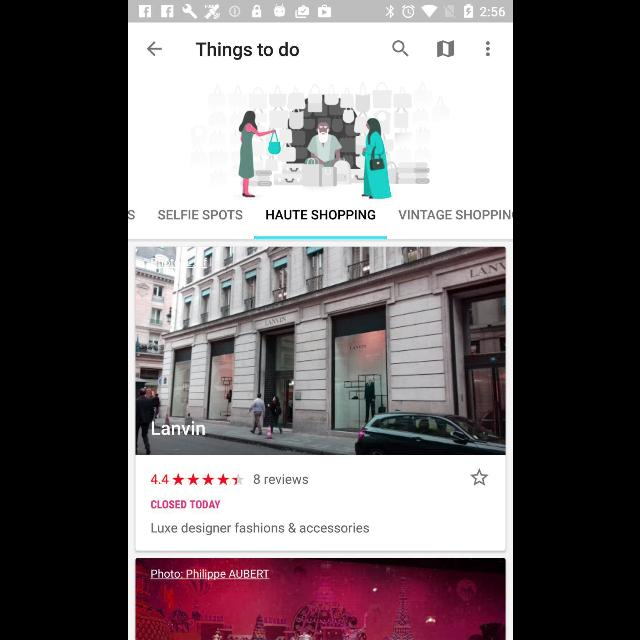icon: (172, 473, 244, 485), (470, 468, 488, 486), (436, 40, 454, 58), (392, 41, 408, 58), (146, 42, 160, 56), (485, 41, 489, 57)
image: (134, 247, 504, 455), (135, 558, 505, 640), (190, 83, 448, 199)
multitab: (128, 202, 512, 240)
panel: (136, 456, 504, 550)
text: (151, 522, 369, 536), (195, 42, 298, 60), (150, 568, 268, 580), (398, 210, 512, 220), (266, 210, 374, 220), (158, 210, 242, 220), (150, 421, 204, 435), (150, 499, 220, 508), (252, 474, 308, 484), (150, 474, 168, 484)
uppertaskbar: (128, 1, 512, 23)
